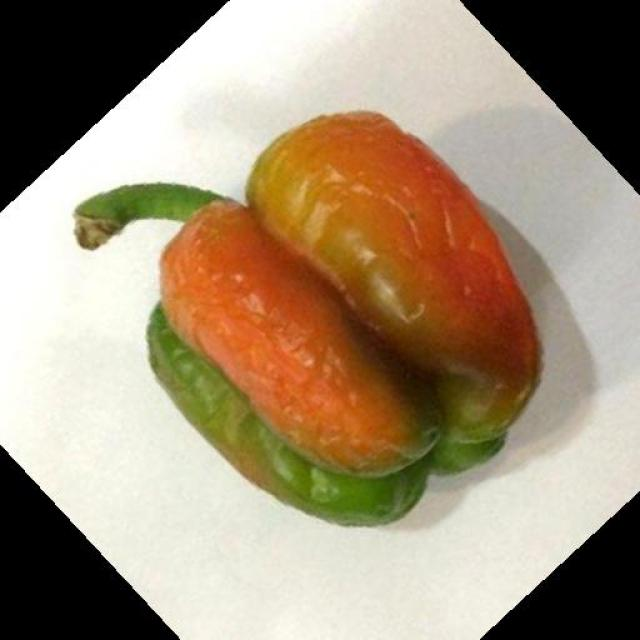Stale_Capsicum: (149, 110, 521, 498)
